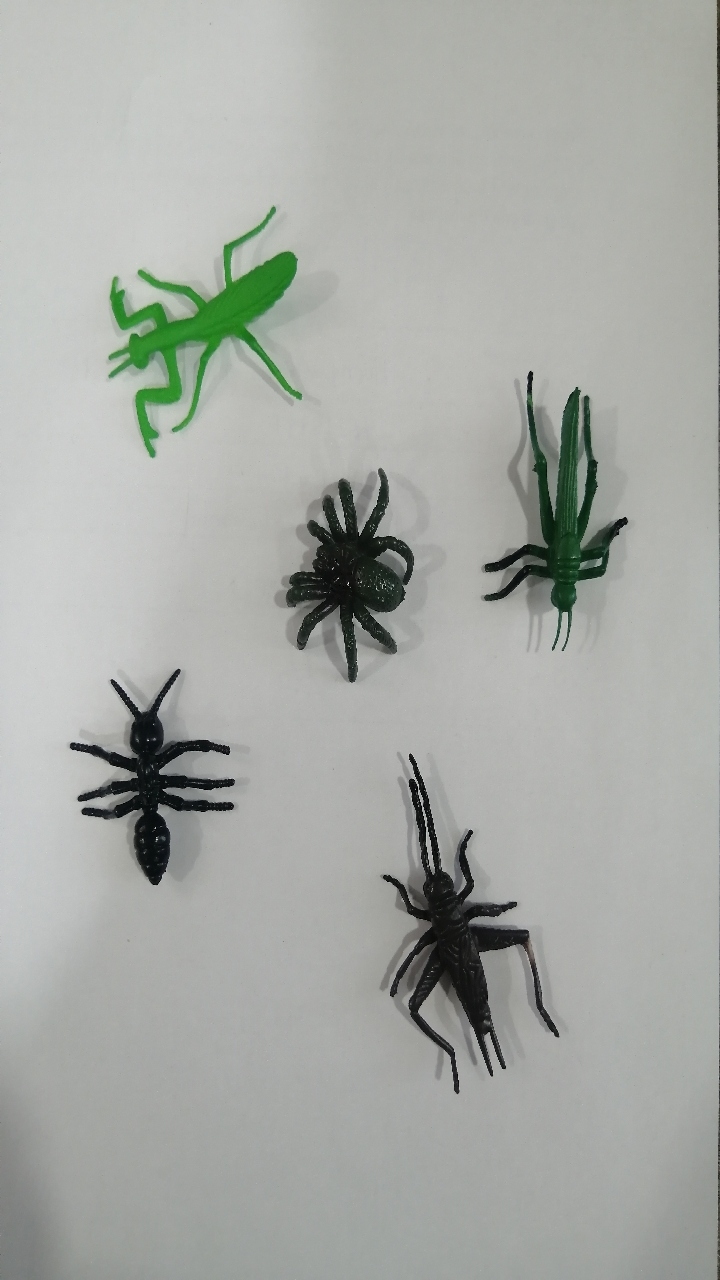intruso: (344, 742, 574, 1103), (88, 183, 331, 463), (478, 334, 661, 668), (44, 640, 255, 914), (251, 455, 435, 688)
